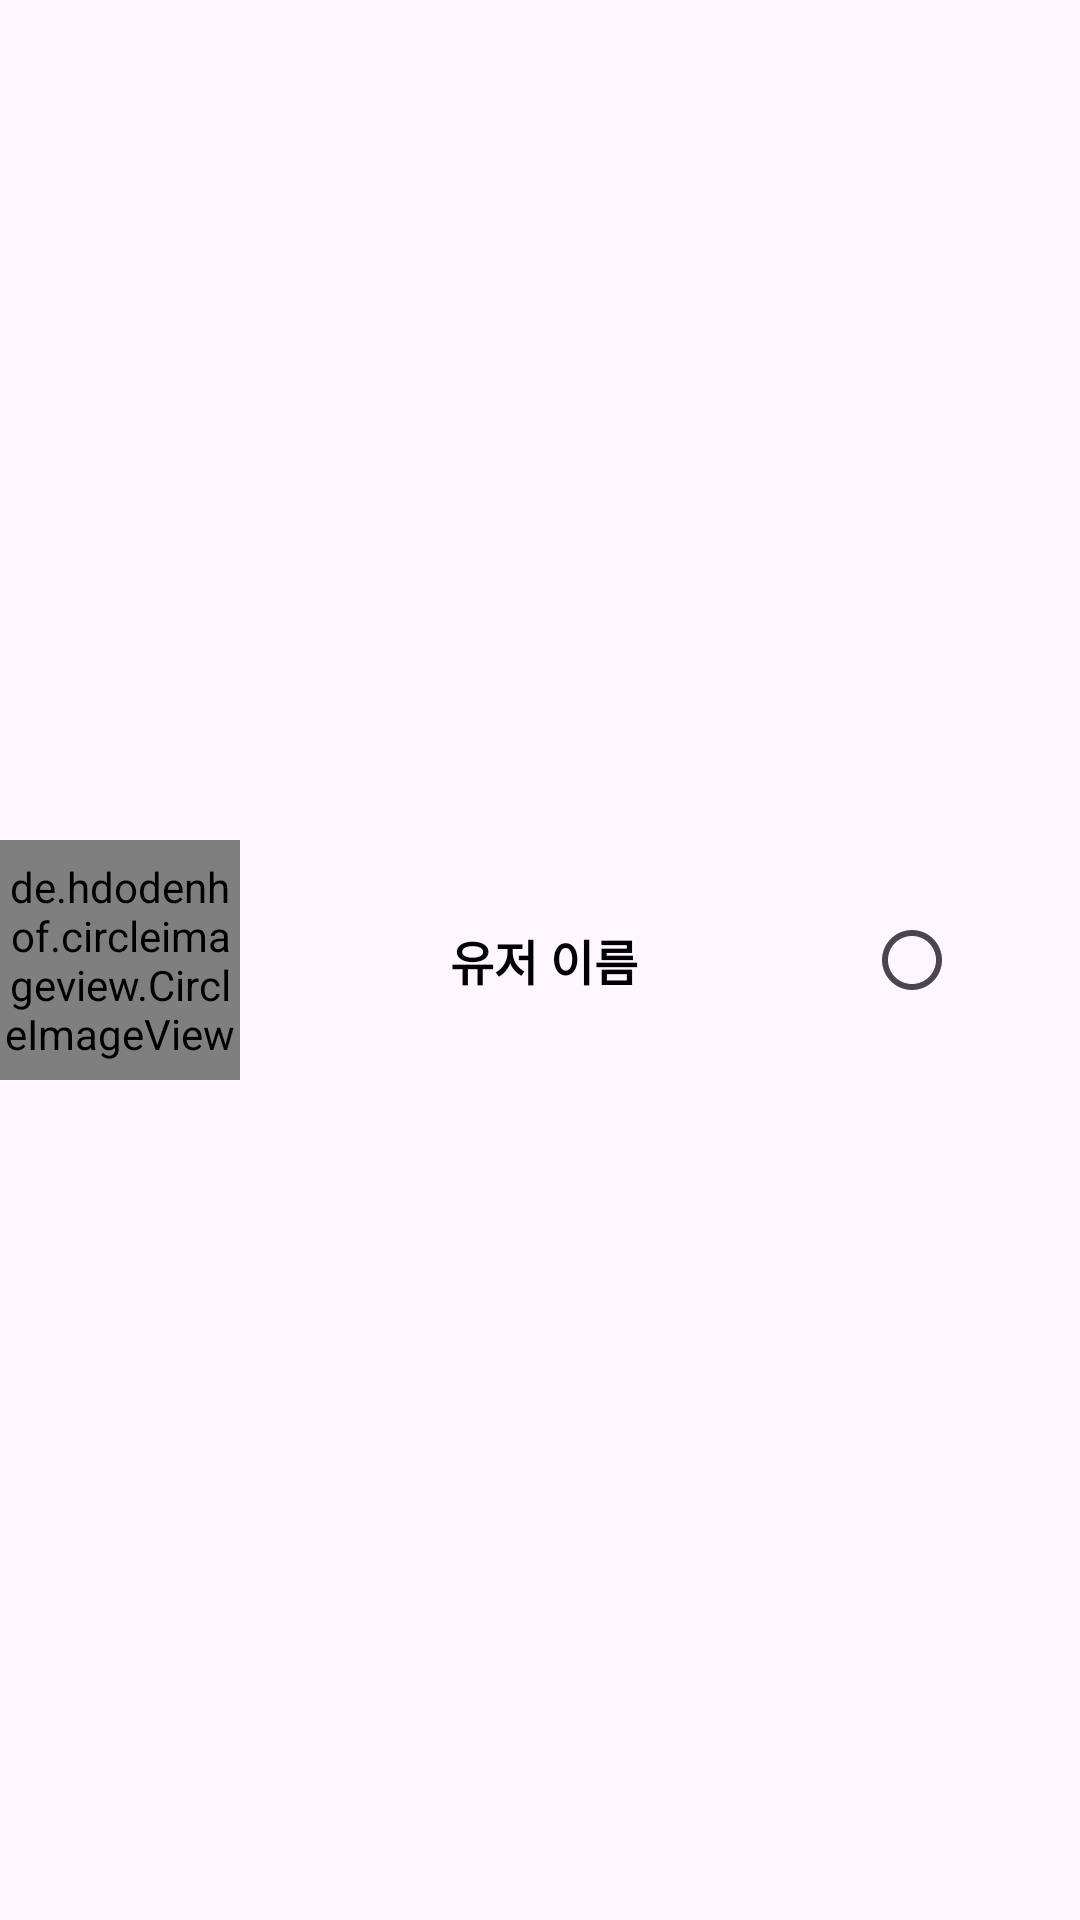

Named icons in this screenshot (1080w x 1920h) and their bounding boxes, (x1, y1, x2, y2):
custom round checkbox: (882, 930, 942, 990)
